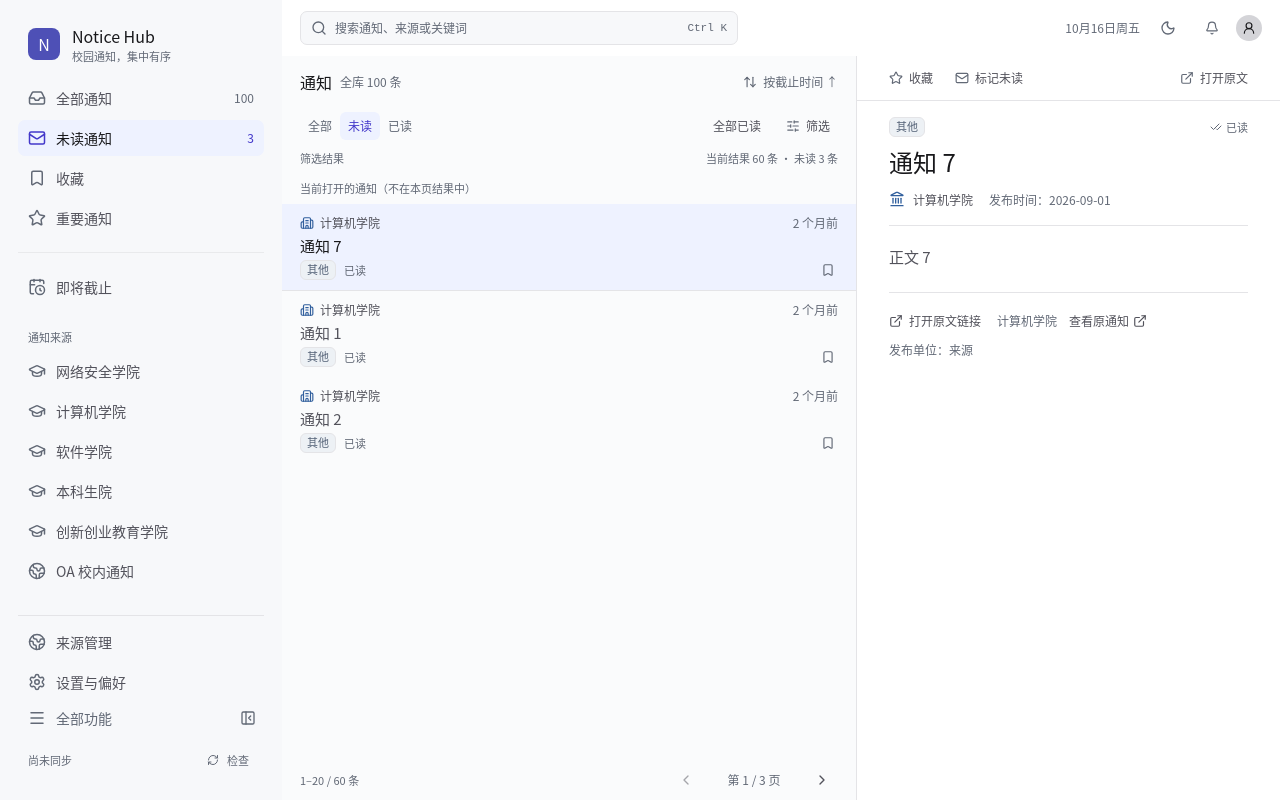
notice workspace selection › keeps manual unread and read-all in sync with the selected temporary row
This screenshot has width=1280, height=800.
(page scrolled)
Check: the heading "通知 7" is shown, box [889,144,956,179]
Click the button with aria-label "标记为未读". click: (989, 78)
box: [947,62,1031,94]
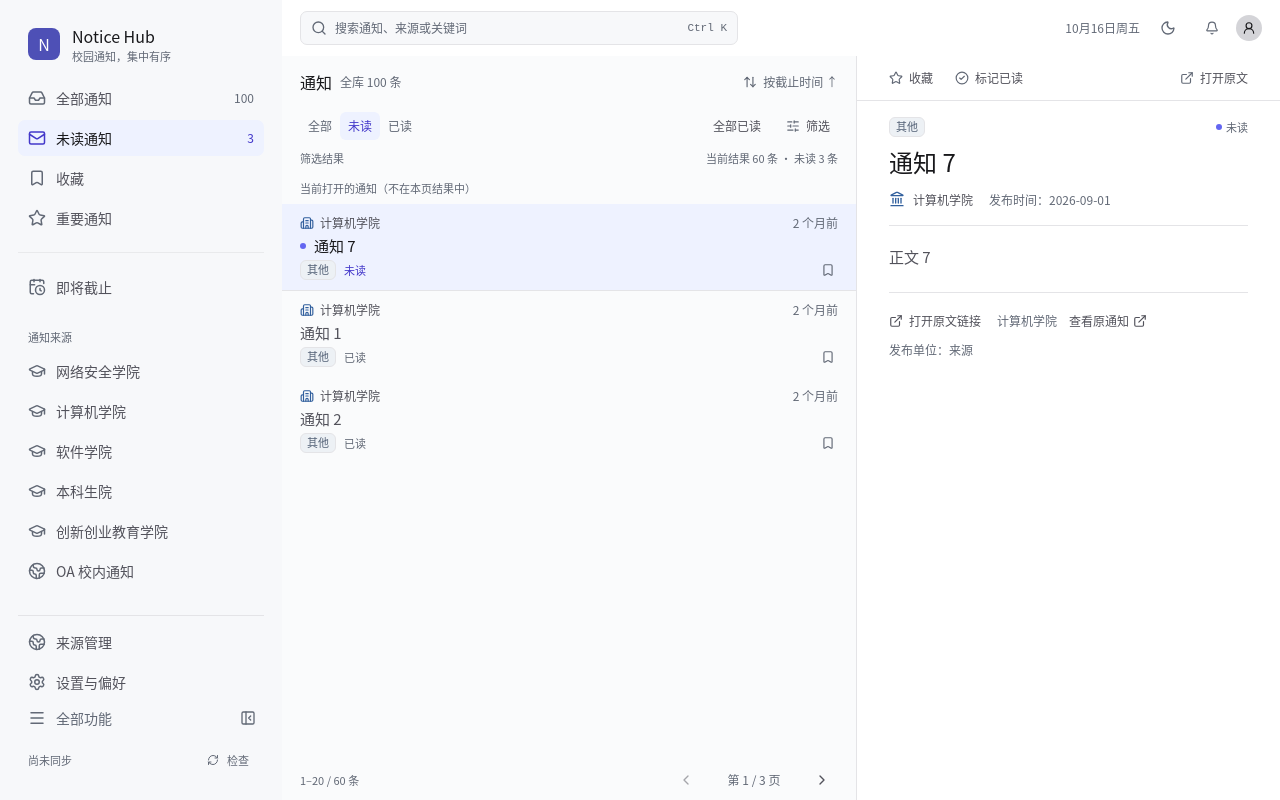
Check: the text "未读" is shown, box [344,262,366,278]
Click the button "全部已读". click: (737, 126)
box: [700,108,774,144]
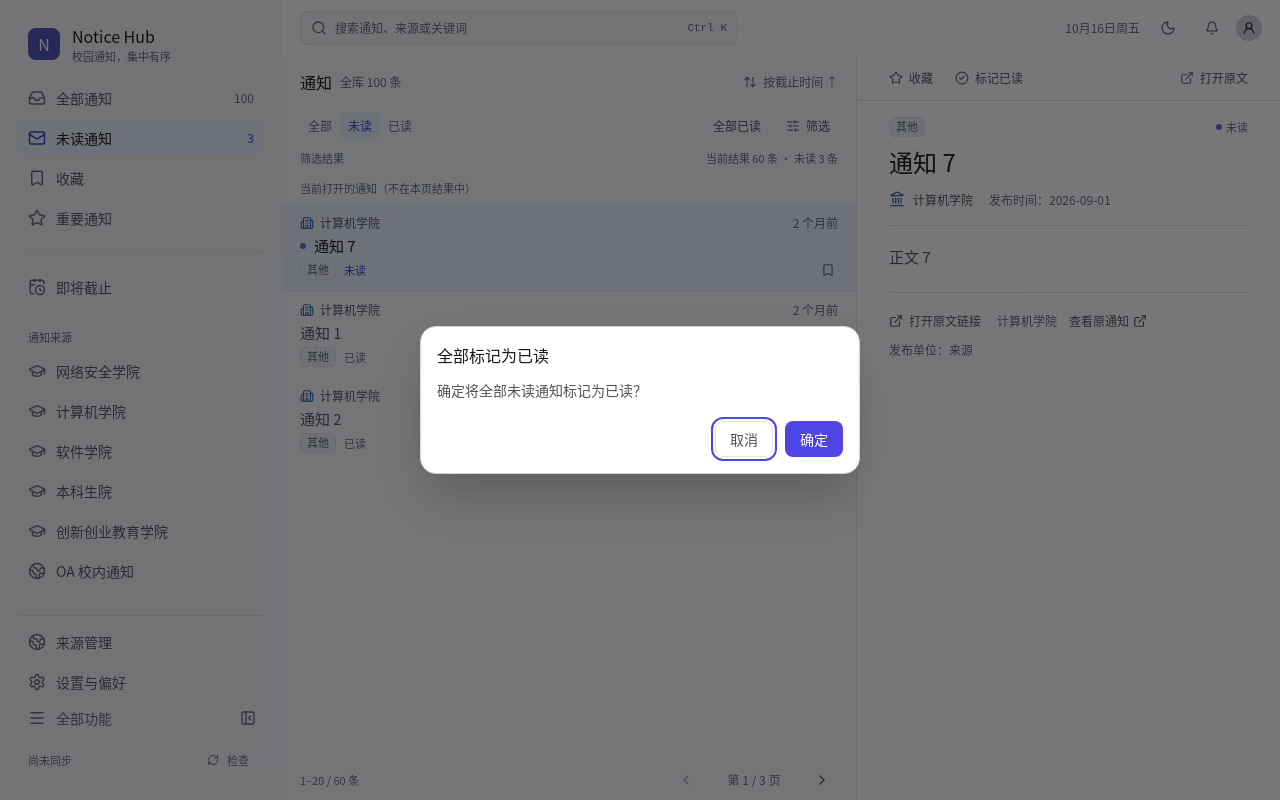
Click the button "确定". click: (814, 439)
box: [785,421,843,457]
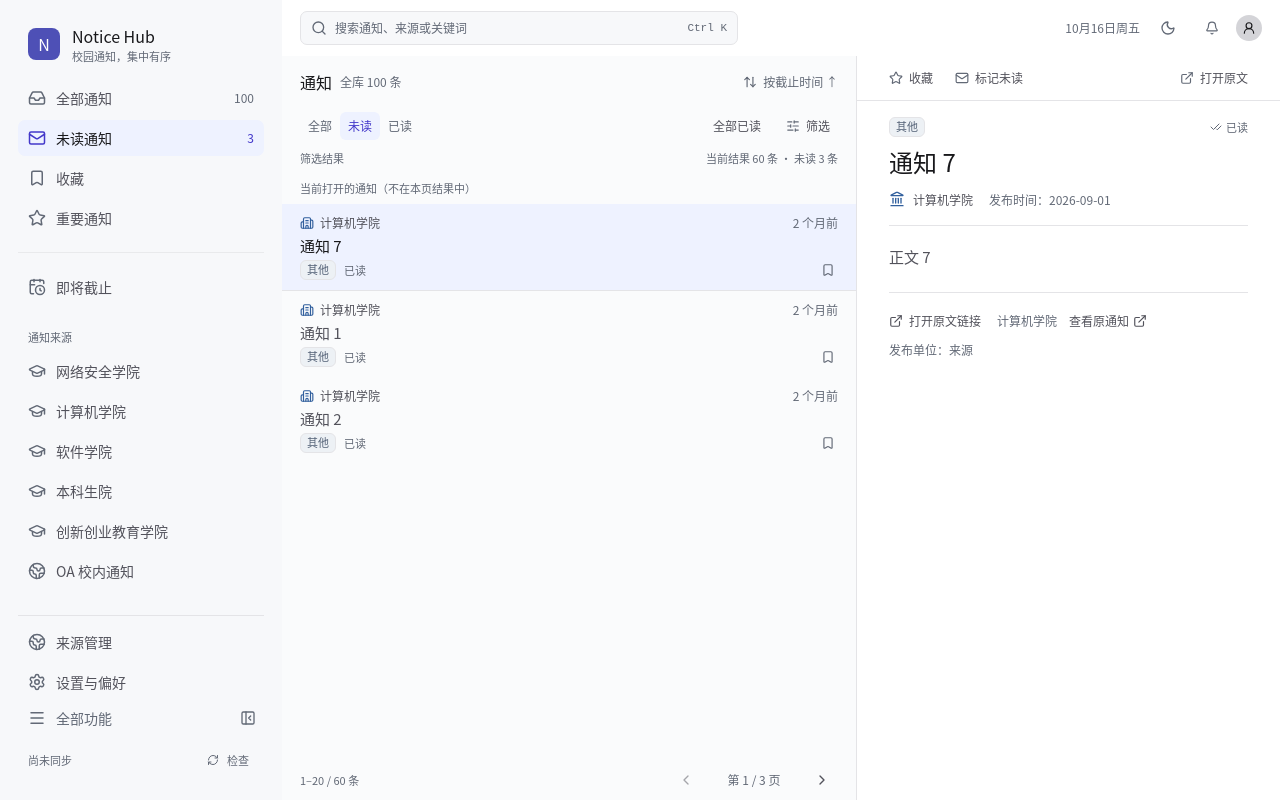
Check: the heading "通知 7" is shown, box [889,144,956,179]
Check: the text "已读" is shown, box [344,262,366,278]
Check: the button with aria-label "标记为未读" is shown, box [947,62,1031,94]
